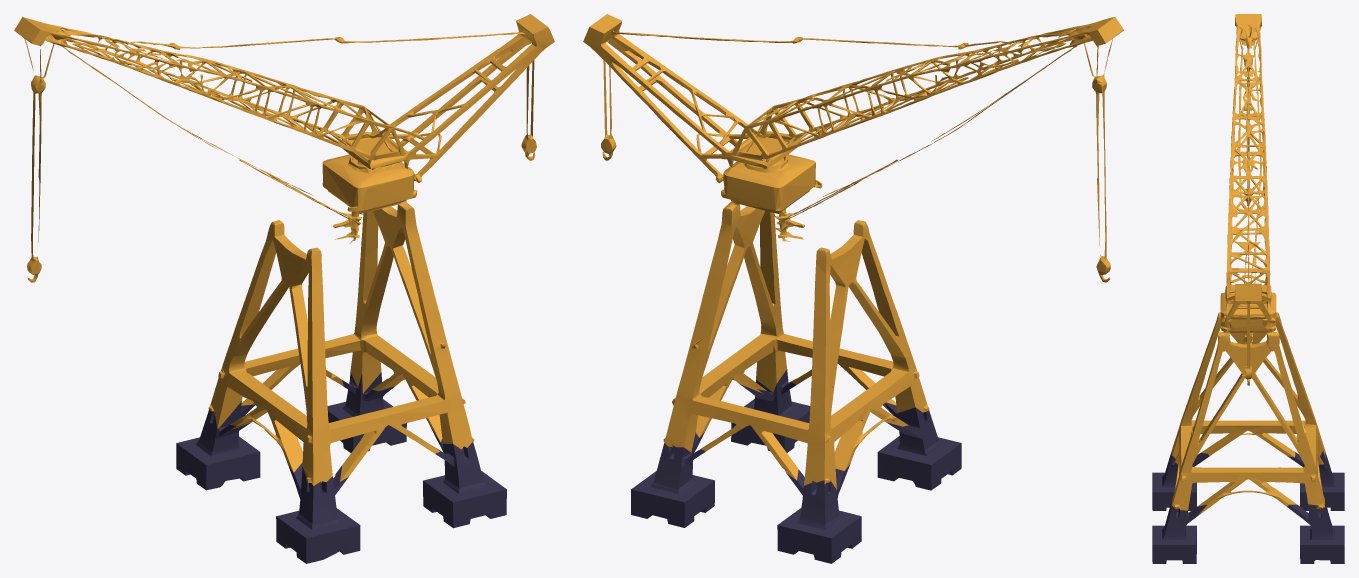
The model's file is landmark_crane.fbx.
The picture shows the model from 3 angles, left to right: view 1: azimuth 30°, elevation 25°; view 2: azimuth 150°, elevation 25°; view 3: azimuth 270°, elevation 25°; orthographic projection. The views are drawn at different scales.
Parts seen in each view (by area): view 1: landmark_crane; view 2: landmark_crane; view 3: landmark_crane.
Part boxes in pixels (box(x1,y1,x2,y2)): landmark_crane: box(14, 14, 554, 563); landmark_crane: box(583, 14, 1123, 563); landmark_crane: box(1152, 14, 1344, 563).
Bounding box in the file's own units: 1.89 × 1.88 × 0.8166.
